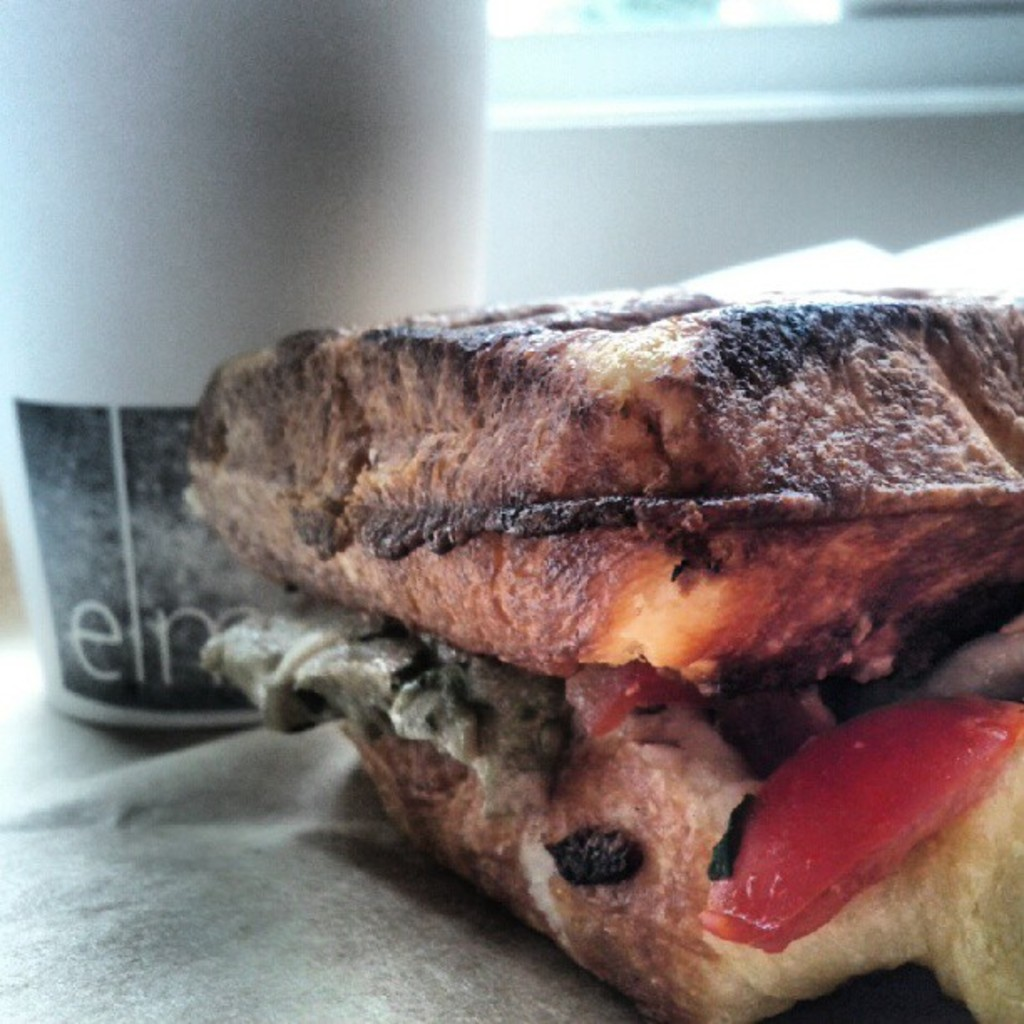sandwich: (181, 202, 1022, 1022)
